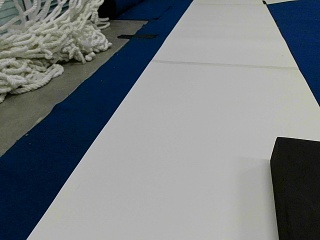block: (271, 136, 317, 237)
